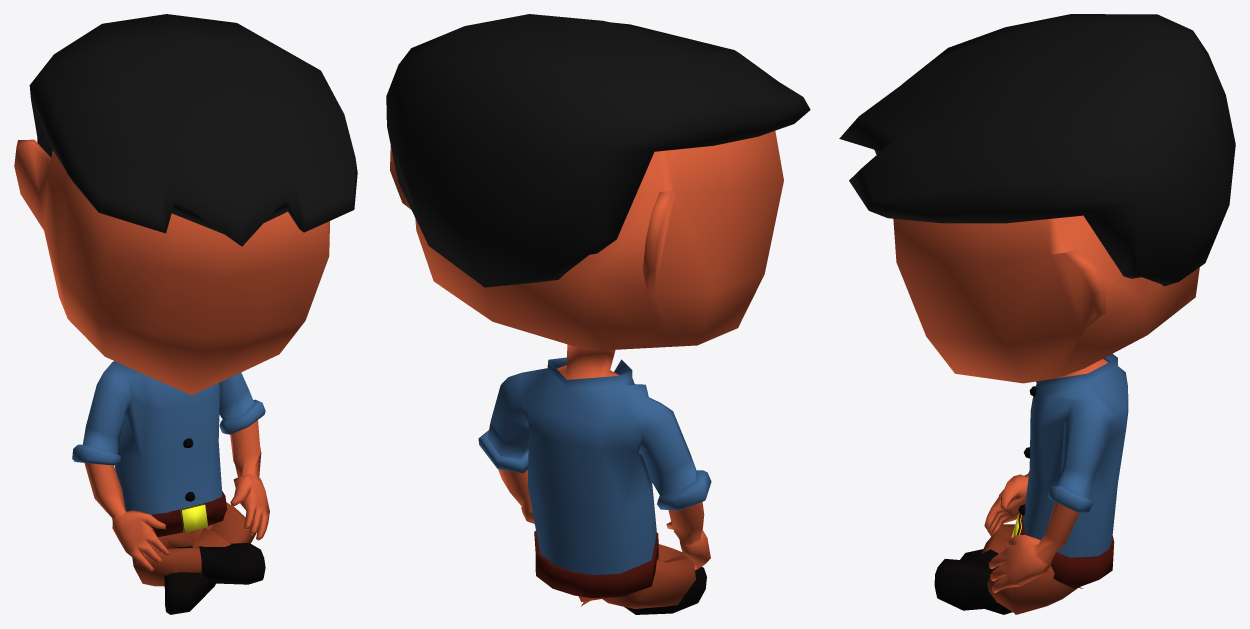
Rendered from Male NPC - blue shirt,brown pants.FBX.
3 renders of one model, left to right at view 1: azimuth 30°, elevation 25°; view 2: azimuth 150°, elevation 25°; view 3: azimuth 270°, elevation 25°, orthographic. The views are drawn at different scales.
Parts seen in each view (by area): view 1: Group003, Group006, BrockLee007; view 2: Group003, Group006, BrockLee007; view 3: Group006, Group003, BrockLee007.
Part boxes in pixels (x1,y1,x2,y2): Group003: [14, 139, 329, 514]; Group006: [29, 14, 357, 246]; BrockLee007: [84, 420, 269, 614]; Group003: [390, 131, 783, 575]; Group006: [386, 14, 810, 287]; BrockLee007: [498, 469, 710, 614]; Group006: [839, 14, 1235, 286]; Group003: [893, 215, 1199, 557]; BrockLee007: [934, 386, 1114, 614].
Size of the model in its own units: 93.35 by 98.57 by 157.
